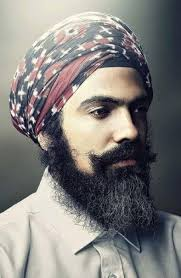helmet: (18, 11, 156, 227)
